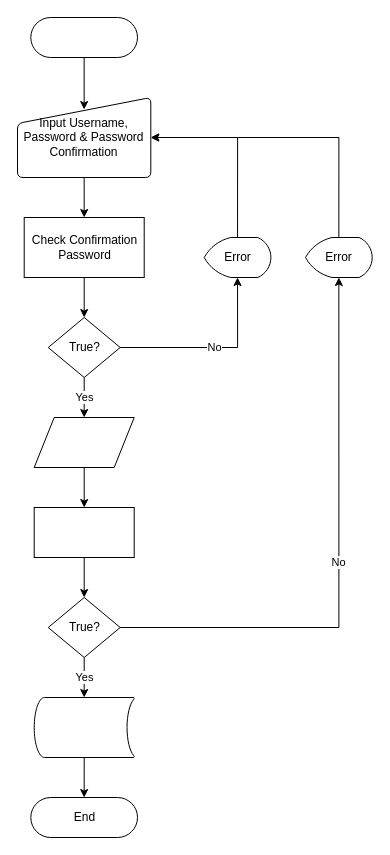
Some shapes in this 390 by 855 pixel diagram are drawn without their labels. Each missing label, with the box of its shape:
Check Username Availablity: (33, 506, 134, 558)
Send to DB_USER: (33, 416, 134, 468)
Start: (30, 16, 138, 58)
Store Data to DB_USER: (33, 696, 134, 758)
